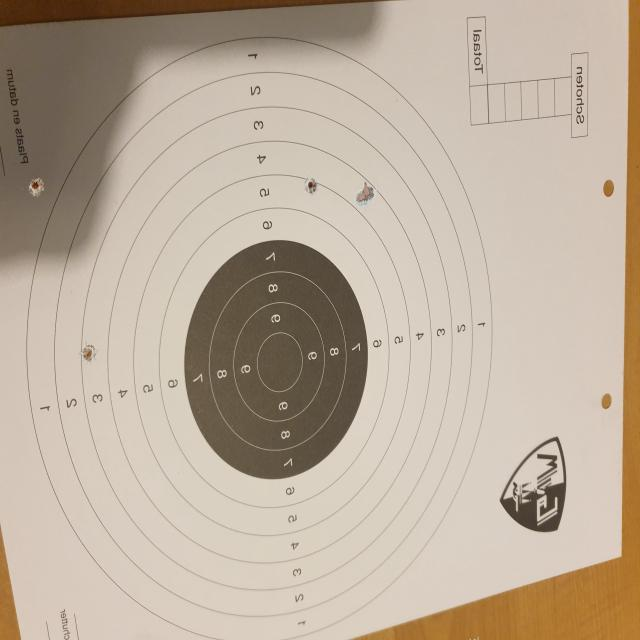0: (29, 176, 45, 196)
3: (82, 344, 96, 363)
4: (362, 181, 376, 200), (355, 191, 369, 207)
5: (304, 177, 319, 196)
Target: (26, 35, 492, 638)
black_contour: (185, 240, 367, 480)
